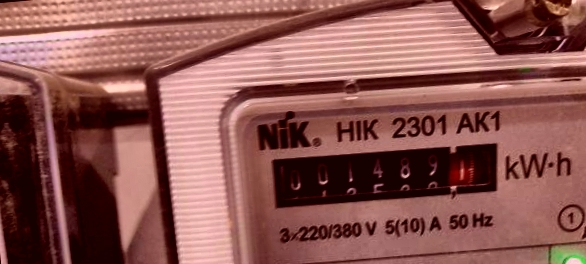0: (312, 159, 330, 185), (286, 165, 303, 192)
1: (341, 155, 358, 186), (453, 151, 468, 182)
4: (368, 154, 386, 181)
8: (394, 151, 413, 180)
9: (423, 151, 440, 177)
screen: (255, 126, 517, 225)
